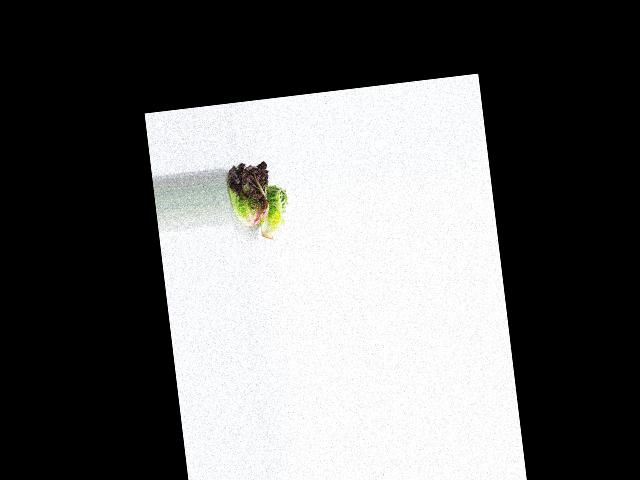lettuce: (253, 182, 292, 242)
